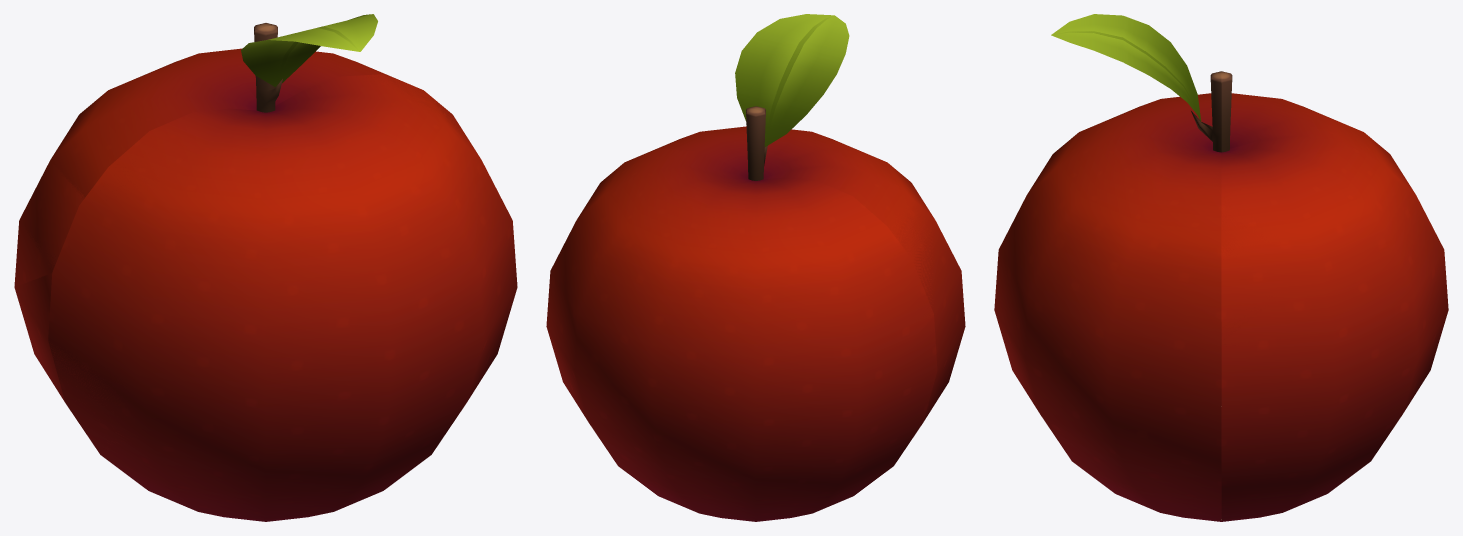
File: Apple Red.fbx
3 views of the same model, side by side, from view 1: azimuth 30°, elevation 25°; view 2: azimuth 150°, elevation 25°; view 3: azimuth 270°, elevation 25° (orthographic). The views are drawn at different scales.
Parts seen in each view (by area): view 1: Apple_R_Half_Back, Apple_R_Half_Front, Apple_R_Whole; view 2: Apple_R_Half_Front, Apple_R_Half_Back, Apple_R_Whole; view 3: Apple_R_Half_Back, Apple_R_Half_Front, Apple_R_Whole.
Part boxes in pixels (x1=…): Apple_R_Half_Back: x1=48, y1=14, x2=517, y2=521; Apple_R_Half_Front: x1=14, y1=23, x2=393, y2=287; Apple_R_Whole: x1=14, y1=24, x2=476, y2=449; Apple_R_Half_Front: x1=546, y1=108, x2=933, y2=521; Apple_R_Half_Back: x1=629, y1=14, x2=965, y2=422; Apple_R_Whole: x1=604, y1=109, x2=937, y2=513; Apple_R_Half_Back: x1=994, y1=14, x2=1221, y2=521; Apple_R_Half_Front: x1=1221, y1=73, x2=1448, y2=521; Apple_R_Whole: x1=1166, y1=71, x2=1334, y2=487.
Bounding box in the file's own units: 1.66 × 1.88 × 1.66.
